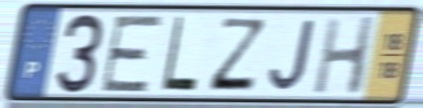3: (52, 9, 107, 96)
E: (98, 13, 167, 94)
H: (310, 13, 379, 98)
J: (267, 17, 318, 93)
L: (159, 13, 200, 94)
Z: (205, 15, 269, 93)
